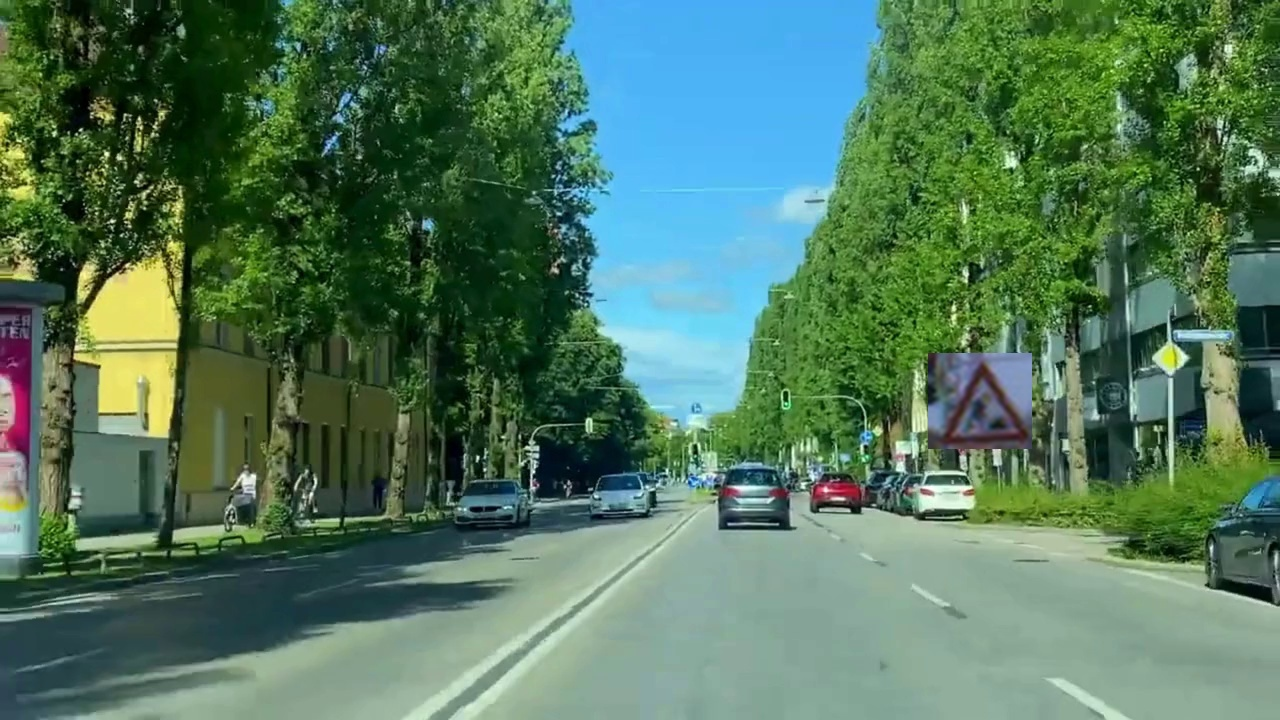Road work: (928, 353, 1032, 449)
